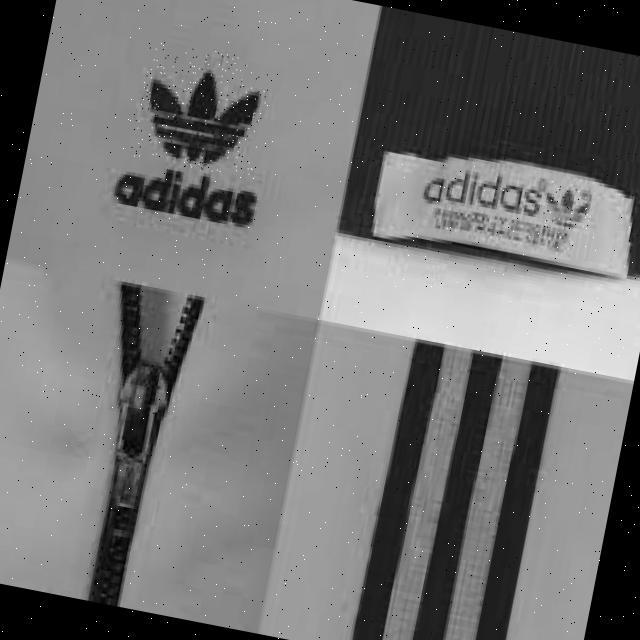Adidas: (129, 39, 273, 179), (540, 181, 596, 239)
